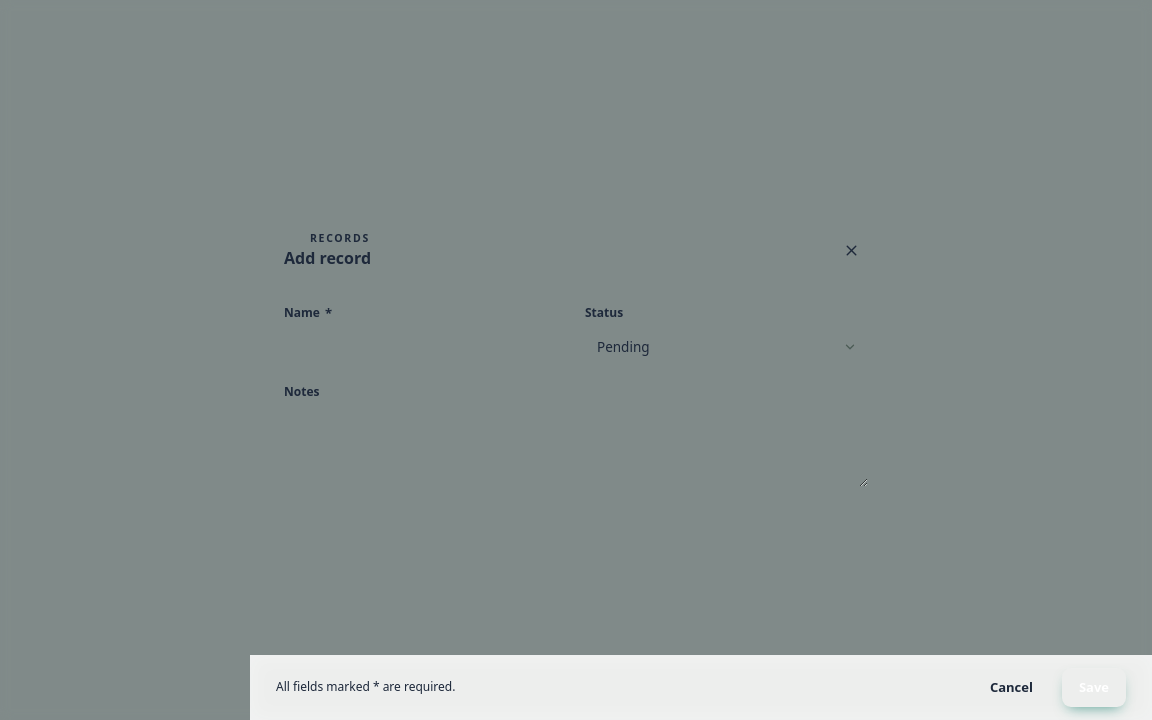
RecordFormModal › rejects missing required fields without submitting
Click the button "Save" at (1094, 687), box [1062,668,1126,707]
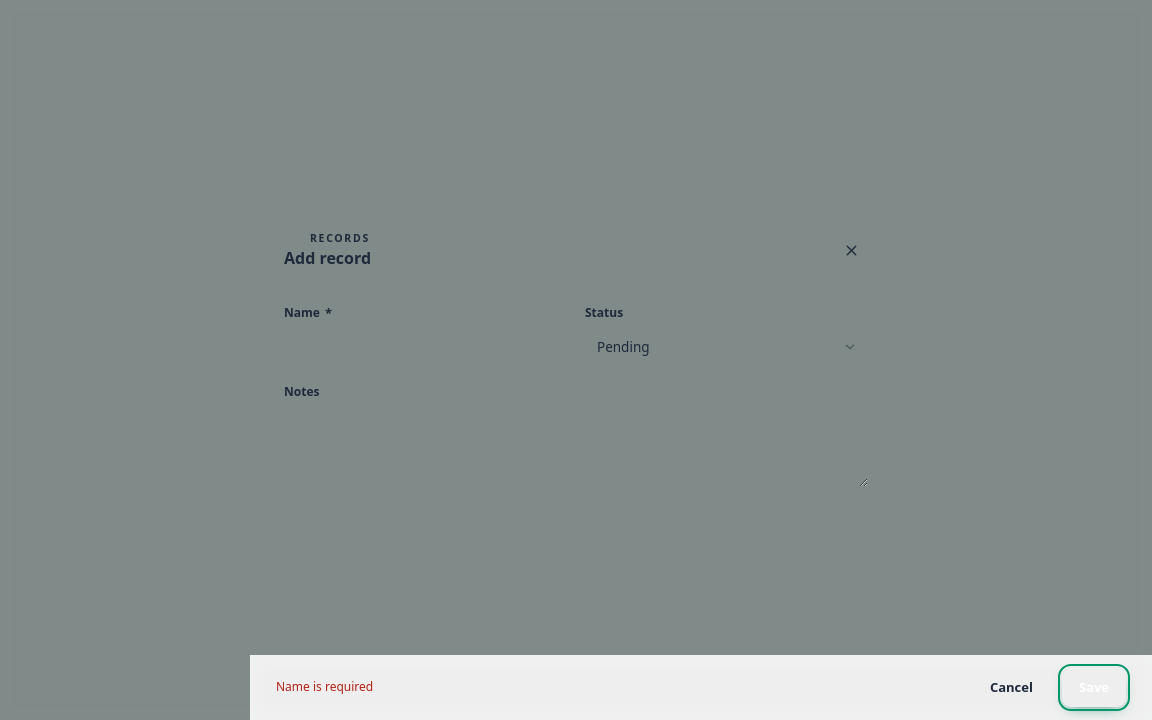
Check: the text "Name is required" is shown, box [276,678,373,696]
